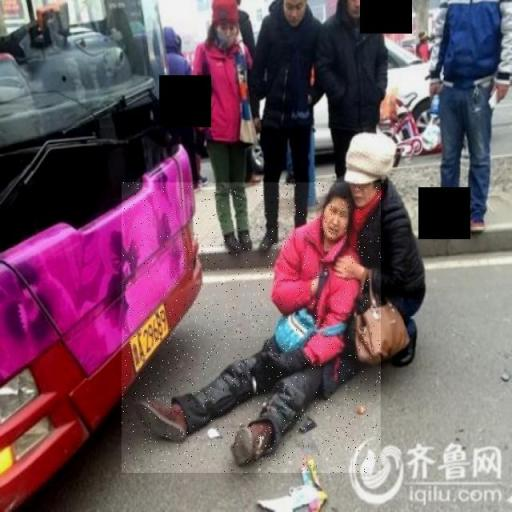Fall: (122, 182, 381, 473)
